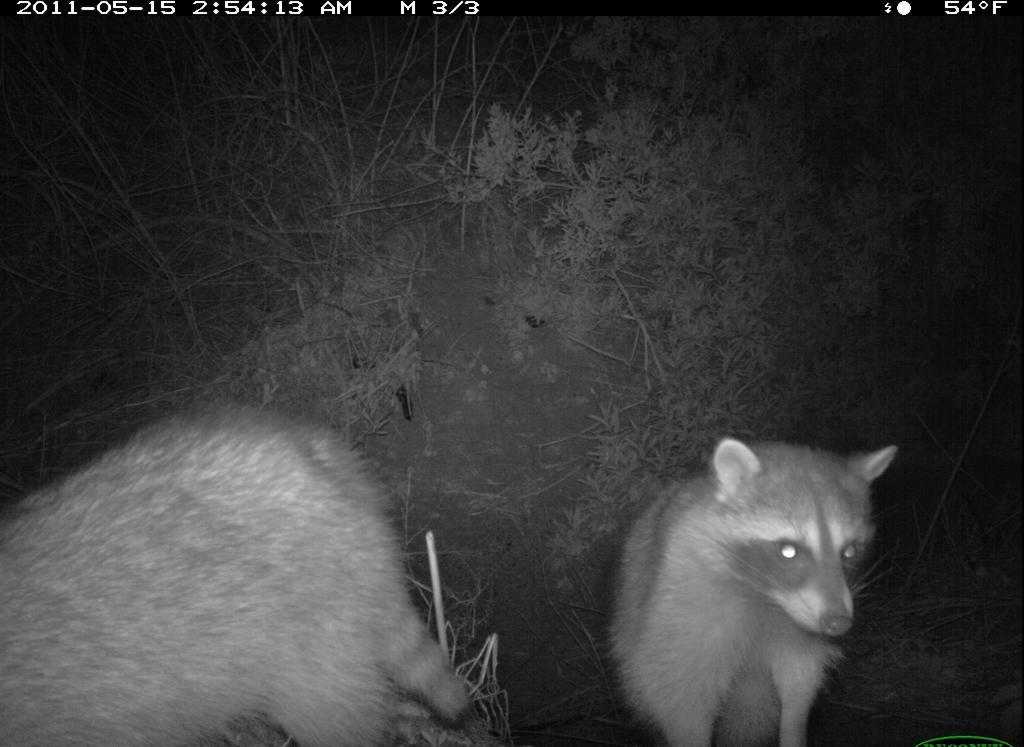raccoon: (6, 374, 488, 747), (602, 417, 917, 745)
